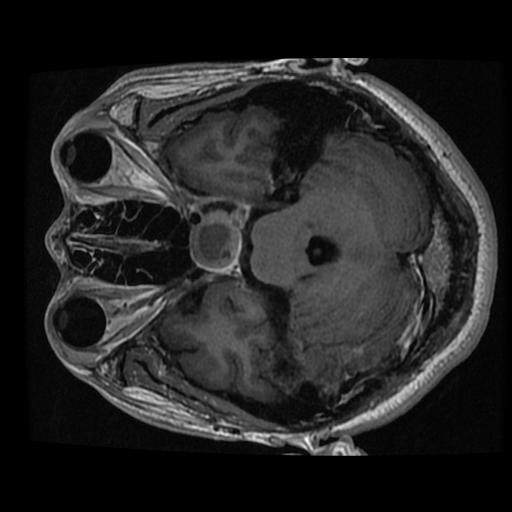pituitary tumour: (189, 209, 246, 273)
